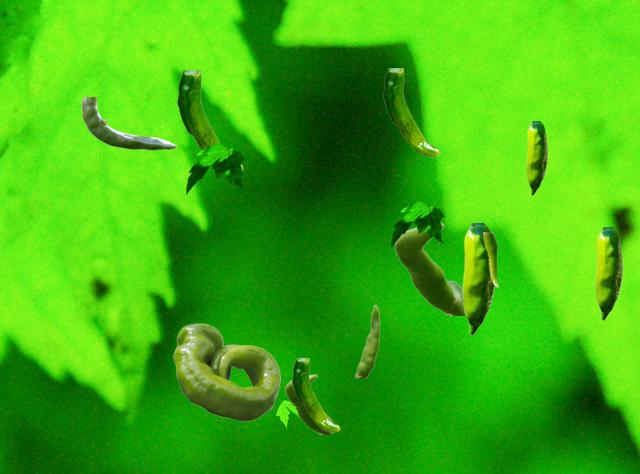green_chili: (173, 323, 279, 420), (177, 70, 242, 168), (394, 222, 463, 314), (383, 68, 439, 156), (81, 97, 175, 149), (462, 223, 494, 334), (292, 358, 339, 431), (285, 374, 331, 433), (595, 227, 621, 319), (355, 304, 379, 377), (526, 121, 546, 194), (483, 232, 497, 286)
